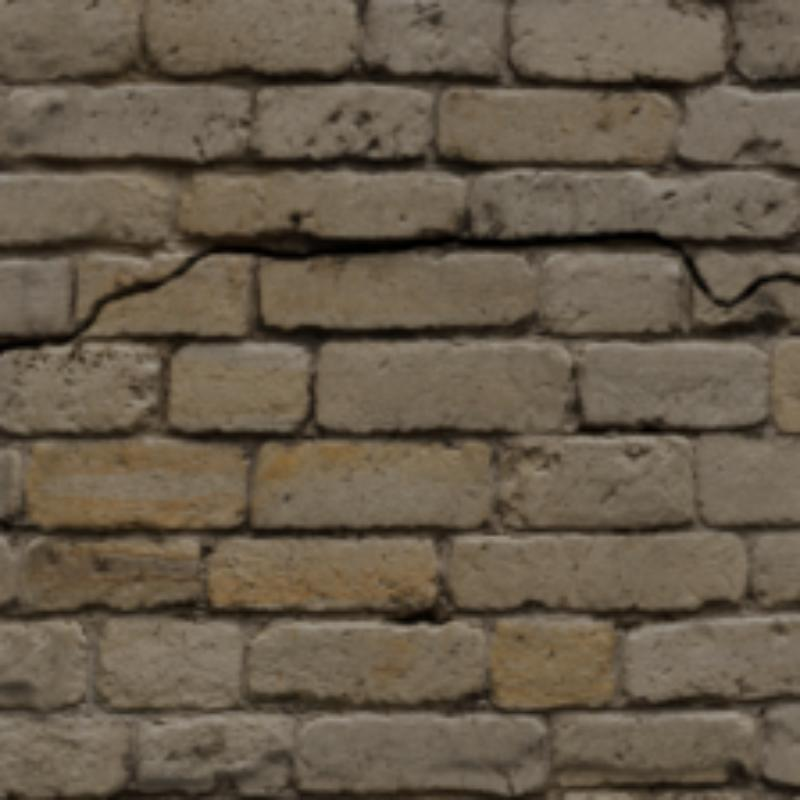pothole: (0, 229, 732, 350)
